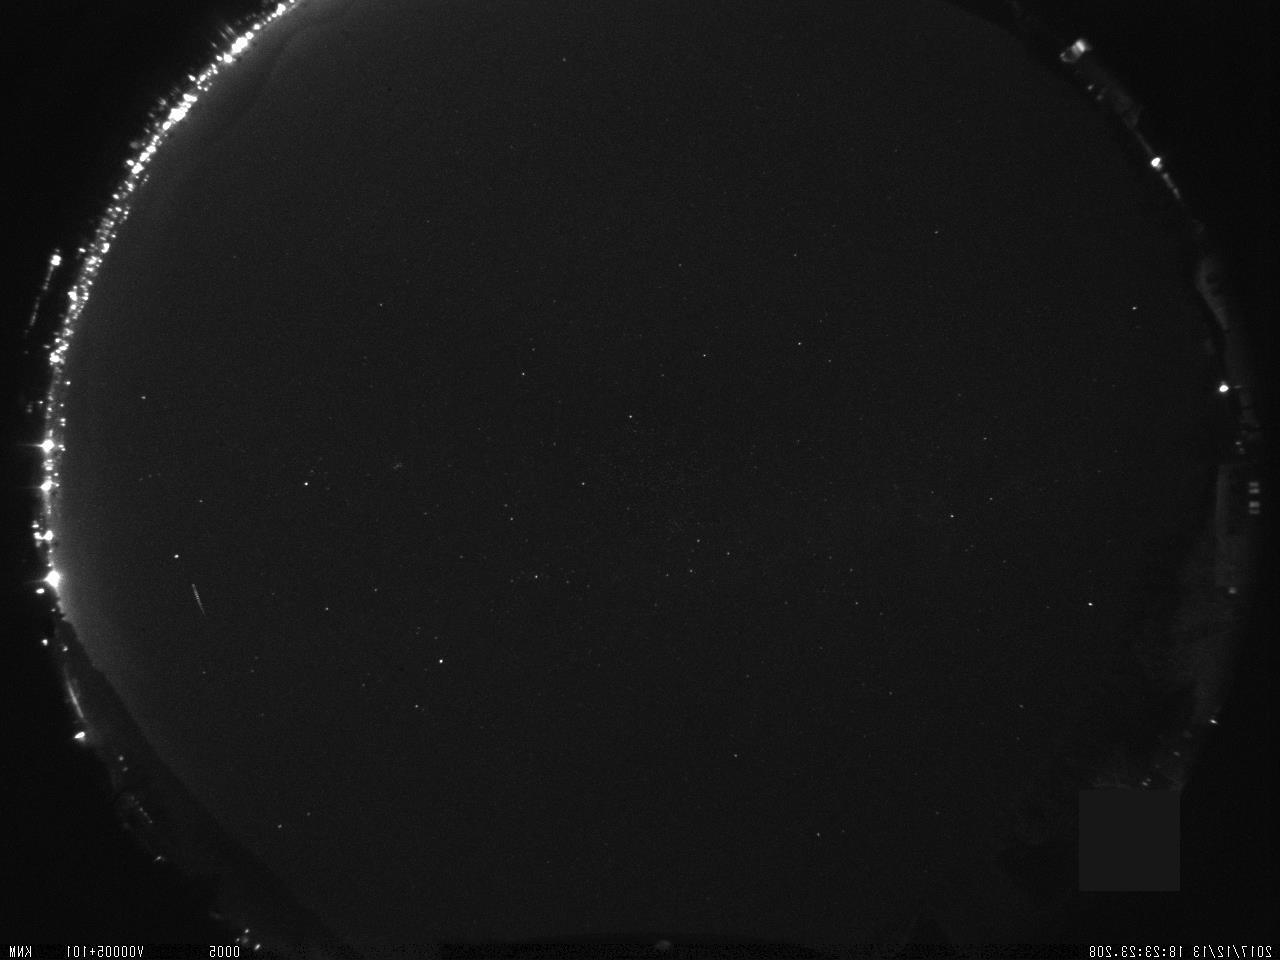meteor: (181, 577, 221, 631)
